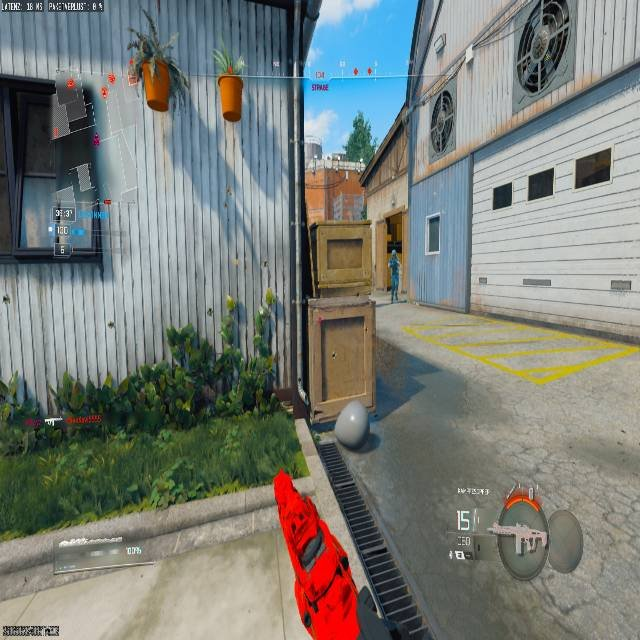player: (386, 240, 402, 303)
